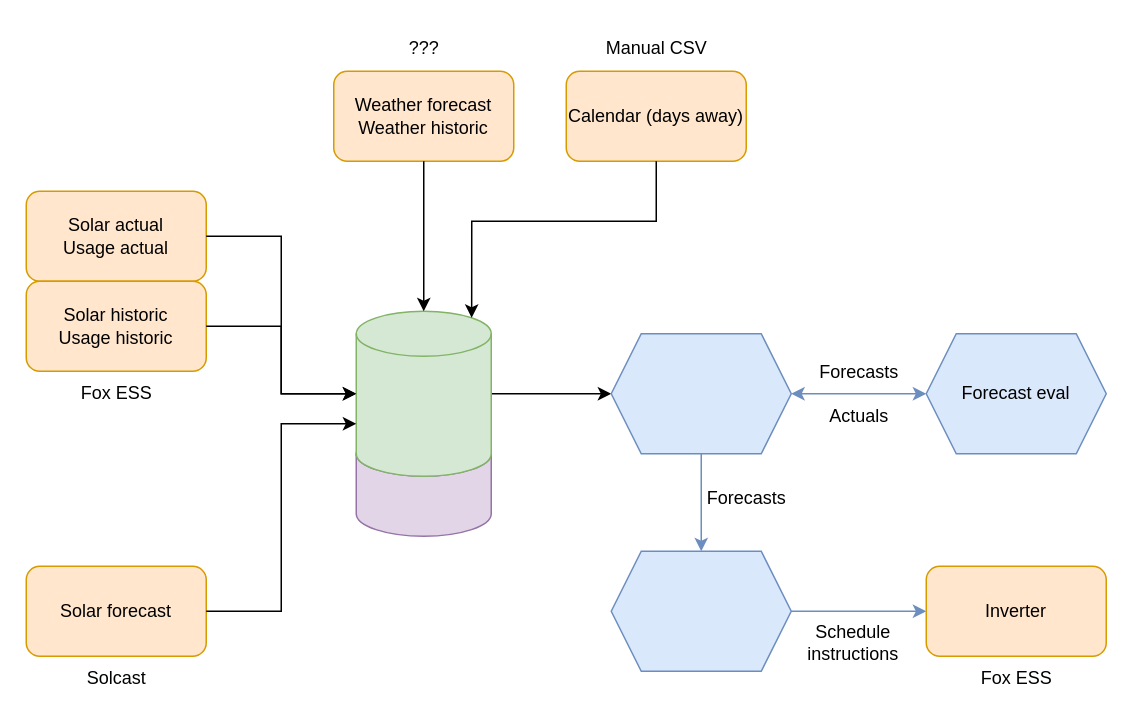
Image size: 1133x726. Some labels were removed from this diagram. The centre of each missing label's shape, as x and y in pixels:
"Google Drive CSVs" goes at pixel 423 393.
"Optimiser (usage fcast, solar fcast, prices t+1)" goes at pixel 700 610.
"Usage historic" goes at pixel 423 483.
"Usage model (usage hist, weather hist, calendar)" goes at pixel 700 393.
